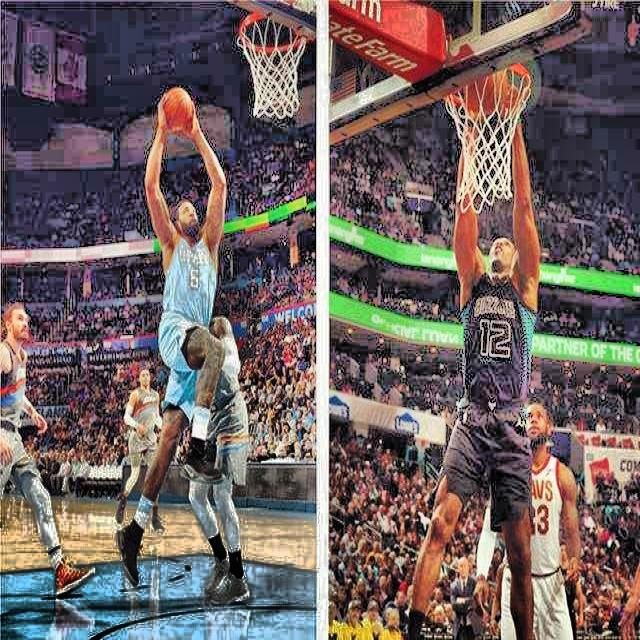rim: (448, 62, 534, 207), (239, 12, 306, 118)
